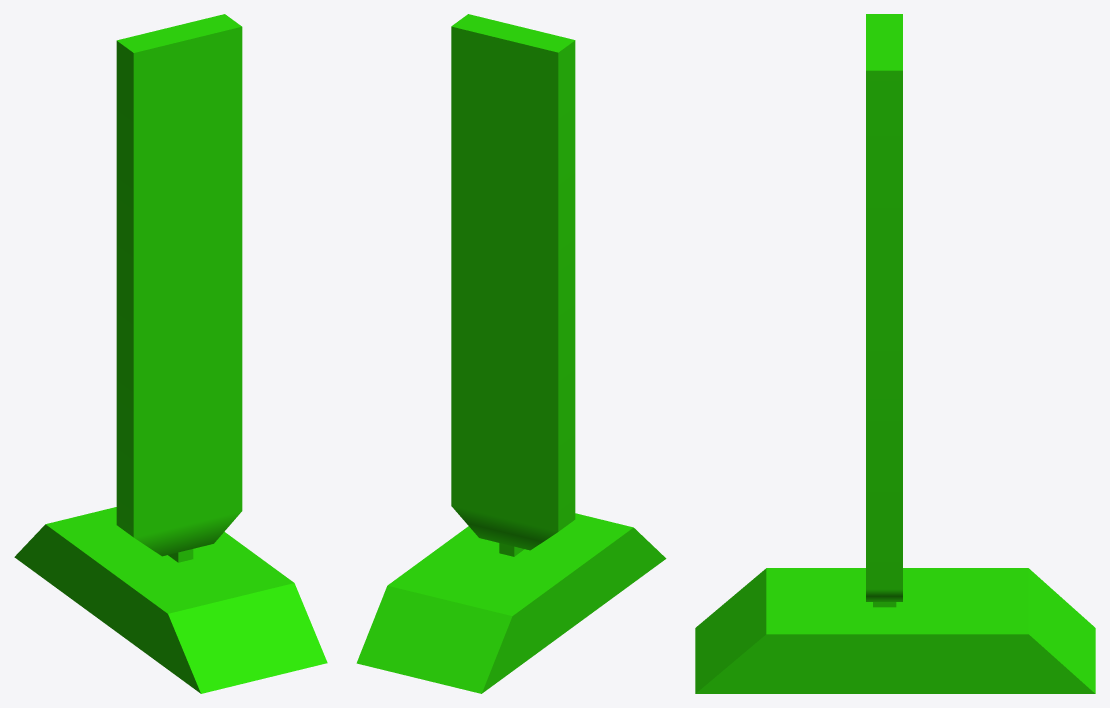
The model's file is Road_Sign_Base_08_Lod0.fbx.
3 views of the same model, side by side, from view 1: azimuth 30°, elevation 25°; view 2: azimuth 150°, elevation 25°; view 3: azimuth 270°, elevation 25° (orthographic). The views are drawn at different scales.
Visible parts, largest first — view 1: Road_Sign_Base_08_Lod0; view 2: Road_Sign_Base_08_Lod0; view 3: Road_Sign_Base_08_Lod0.
Boxes of the visible parts, x1,y1,x2,y2 form: Road_Sign_Base_08_Lod0: (14, 14, 327, 693); Road_Sign_Base_08_Lod0: (356, 14, 666, 693); Road_Sign_Base_08_Lod0: (695, 14, 1095, 693).
Size of the model in its own units: 26.51 by 116 by 67.79.
